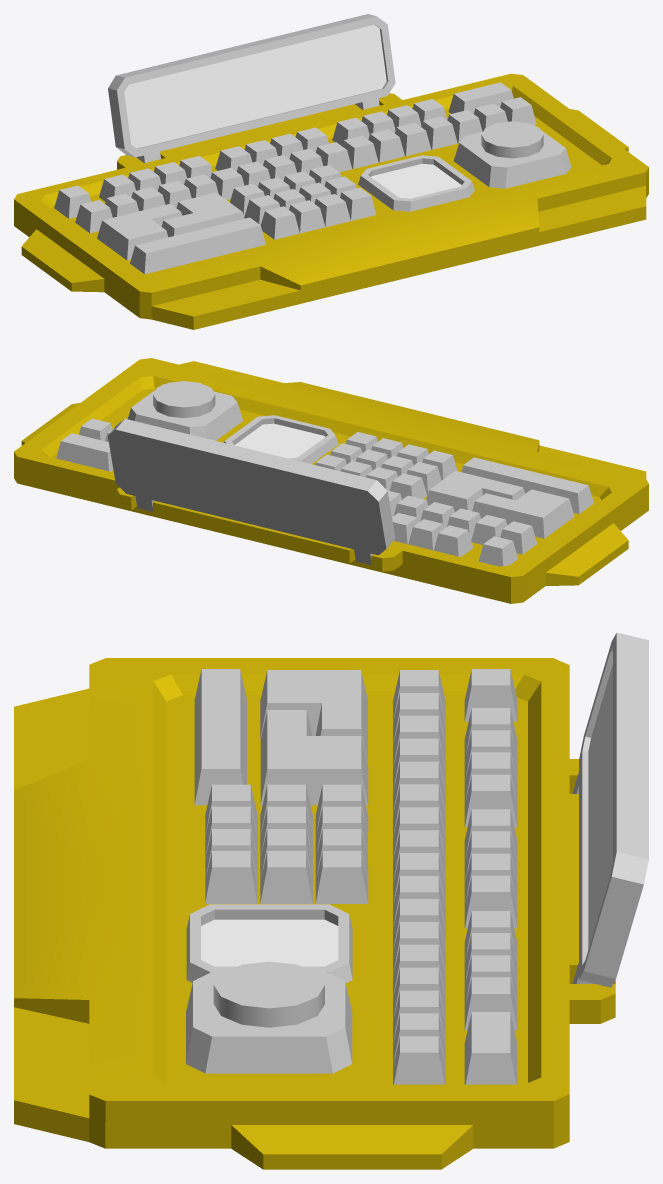
File: Клавиатура_low.fbx
3 views of the same model, one above another, from view 1: azimuth 30°, elevation 25°; view 2: azimuth 150°, elevation 25°; view 3: azimuth 270°, elevation 25° (orthographic). The views are drawn at different scales.
Visible parts, largest first — view 1: клавиотура.002; view 2: клавиотура.002; view 3: клавиотура.002.
Boxes of the visible parts, x1,y1,x2,y2 form: клавиотура.002: [14, 14, 648, 329]; клавиотура.002: [14, 358, 648, 603]; клавиотура.002: [14, 632, 648, 1169].
Bounding box in the file's own units: 458 × 253 × 81.62.
